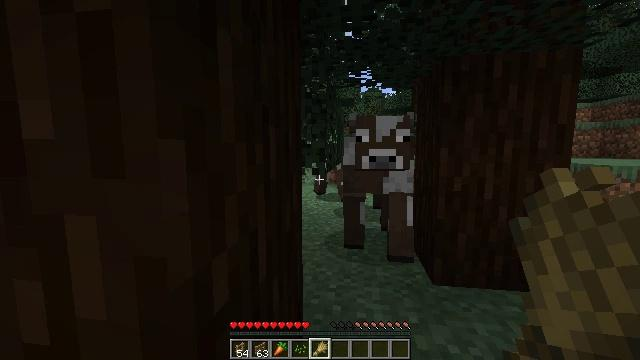cow: (343, 114, 413, 258), (313, 138, 343, 201)
